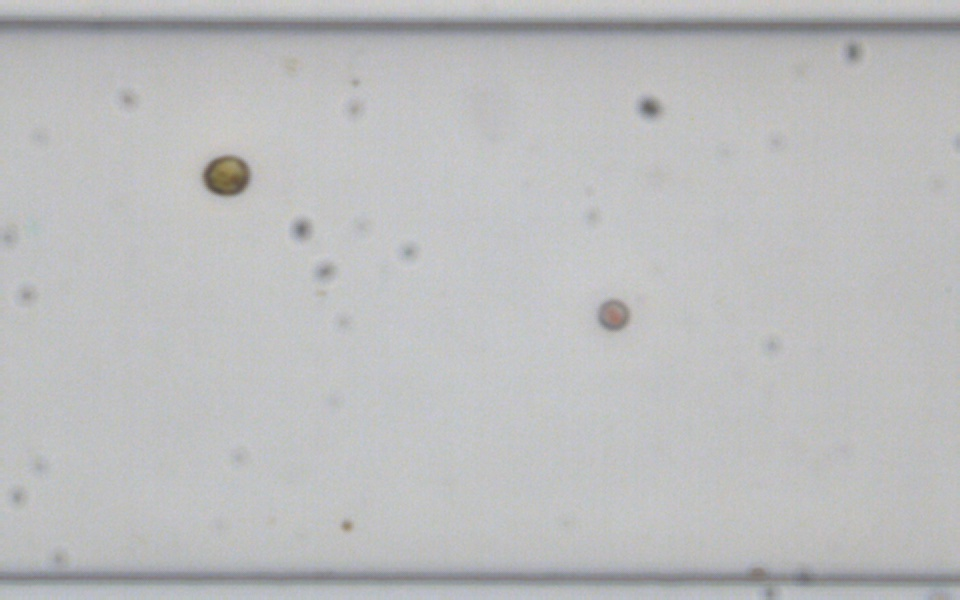Effrenium: (200, 151, 252, 196)
Porphyridium: (595, 296, 630, 331)
